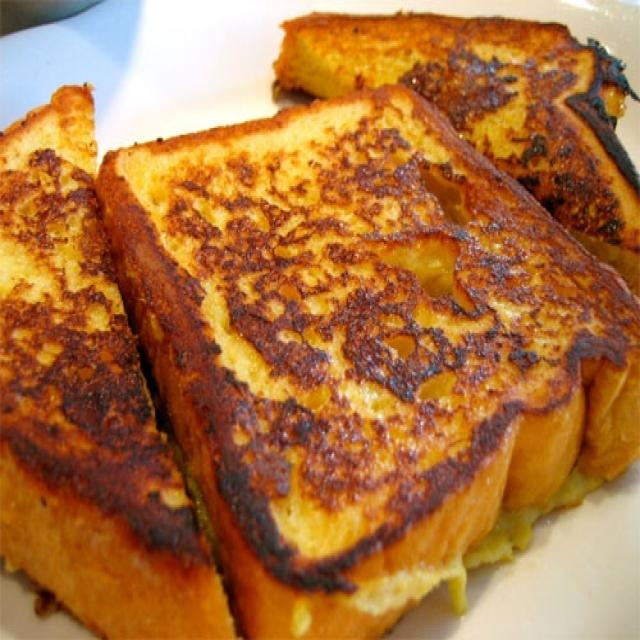面包点心: (9, 5, 630, 621)
